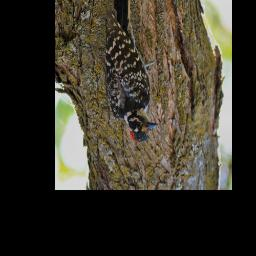Woodpecker: (109, 0, 157, 145)
